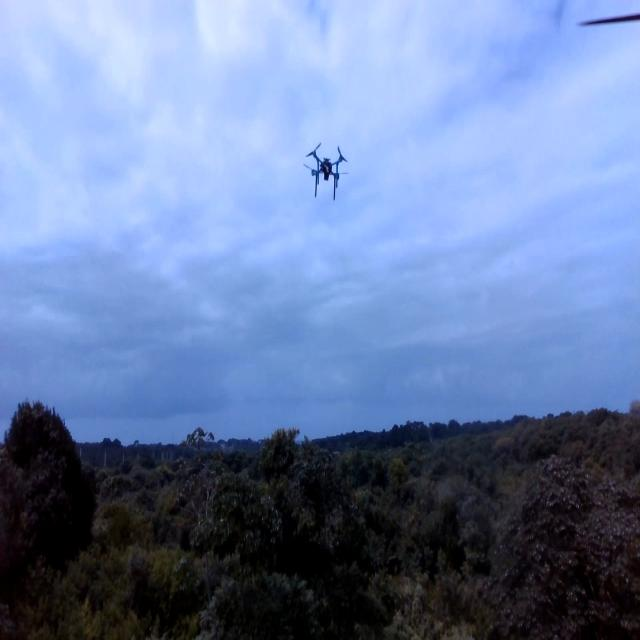-uav-: (297, 132, 354, 209)
